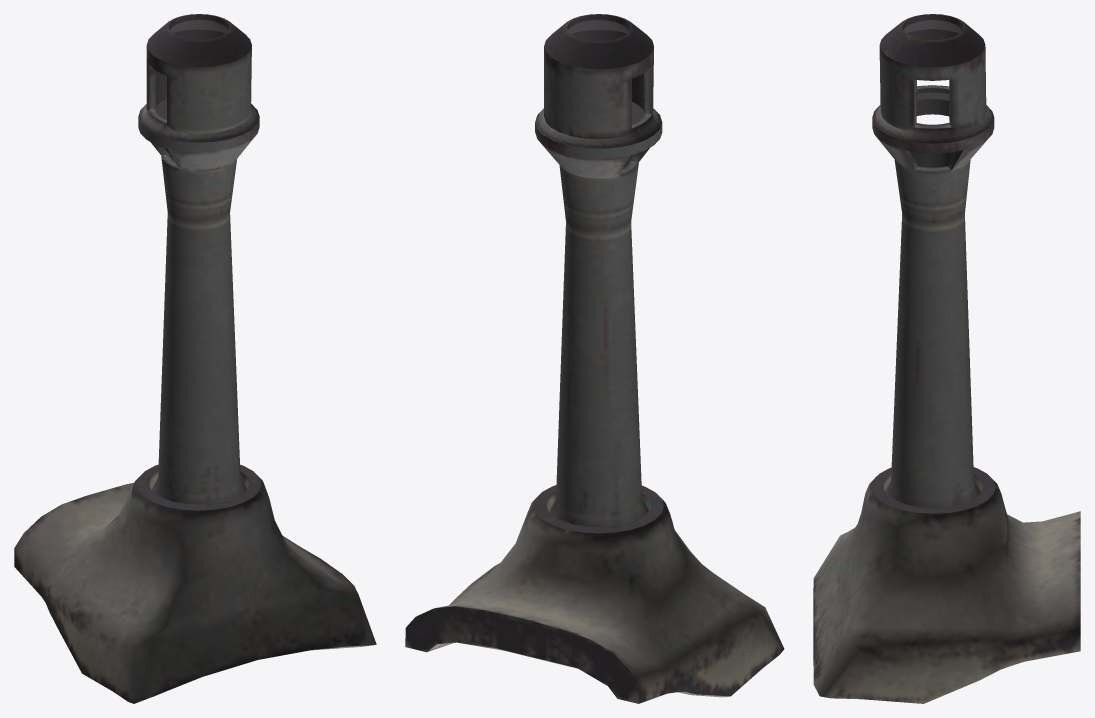
File: Gun_11.glb
3 renders of one model, left to right at view 1: azimuth 30°, elevation 25°; view 2: azimuth 150°, elevation 25°; view 3: azimuth 270°, elevation 25°, orthographic. The views are drawn at different scales.
Parts seen in each view (by area): view 1: set_0_group_0; view 2: set_0_group_0; view 3: set_0_group_0.
Boxes of the visible parts, <box> form: set_0_group_0: <box>14,14,376,703</box>; set_0_group_0: <box>405,14,784,703</box>; set_0_group_0: <box>813,14,1080,703</box>.
Size of the model in its own units: 0.6984 by 1.69 by 0.6601.
1 material, 1 textured.
